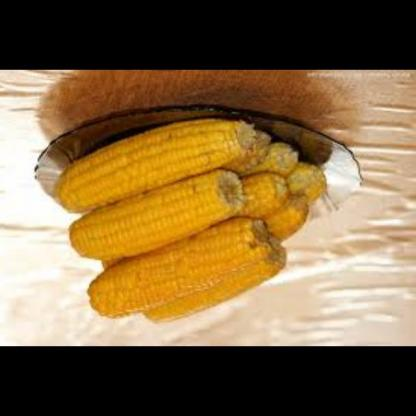corn: (48, 113, 257, 213), (80, 226, 274, 331), (66, 171, 247, 260), (134, 239, 290, 334), (227, 176, 289, 228), (278, 145, 325, 209), (234, 132, 297, 179)
